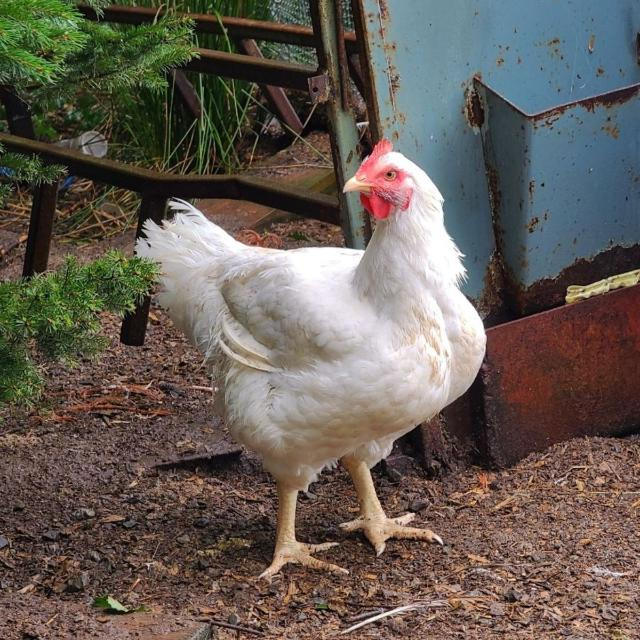Chicken: (132, 138, 489, 580)
